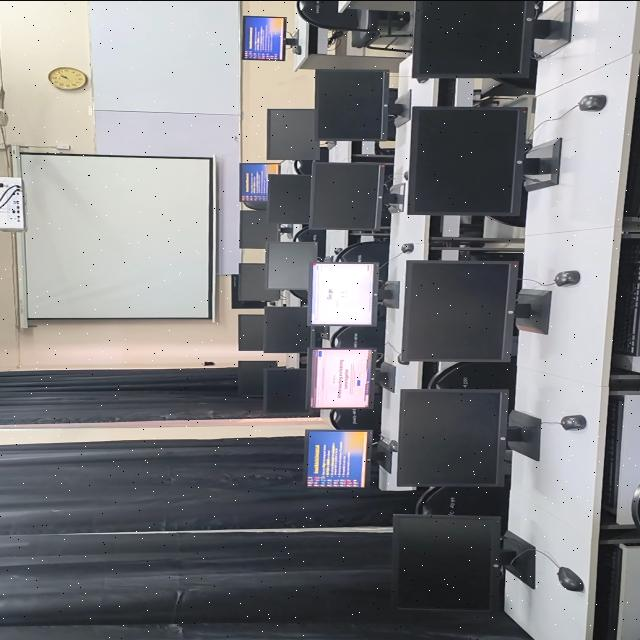Chair: (297, 0, 410, 47), (428, 357, 516, 392), (416, 486, 508, 519), (334, 240, 389, 280), (330, 393, 380, 429), (331, 321, 384, 353), (293, 225, 326, 258), (293, 160, 311, 174)
Keyboard: (612, 238, 640, 355)
Monitor: (407, 106, 561, 226), (401, 260, 551, 361), (397, 388, 541, 486), (413, 0, 571, 78), (393, 514, 501, 610), (316, 70, 409, 141), (309, 162, 404, 228), (311, 262, 378, 325), (310, 348, 373, 408), (306, 429, 370, 487), (266, 241, 318, 298), (267, 108, 321, 160), (263, 306, 320, 352), (267, 174, 311, 223), (264, 367, 309, 413), (242, 15, 286, 60), (240, 162, 279, 207), (237, 360, 283, 395), (238, 262, 280, 300), (239, 209, 279, 248), (231, 274, 270, 308), (238, 314, 263, 350)
Mouse: (557, 566, 583, 591), (579, 94, 607, 111), (554, 270, 580, 286), (560, 414, 586, 430), (401, 242, 413, 253), (292, 45, 301, 54)
Projector: (0, 176, 25, 231)
